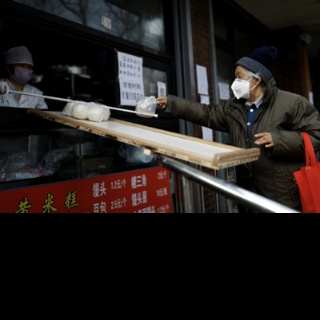with_mask: (230, 70, 253, 101), (12, 63, 33, 84)
